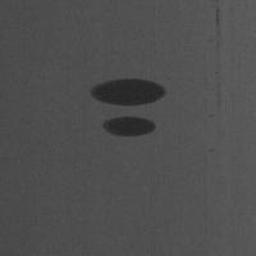Oil spot: (91, 79, 165, 106), (103, 116, 155, 137)
